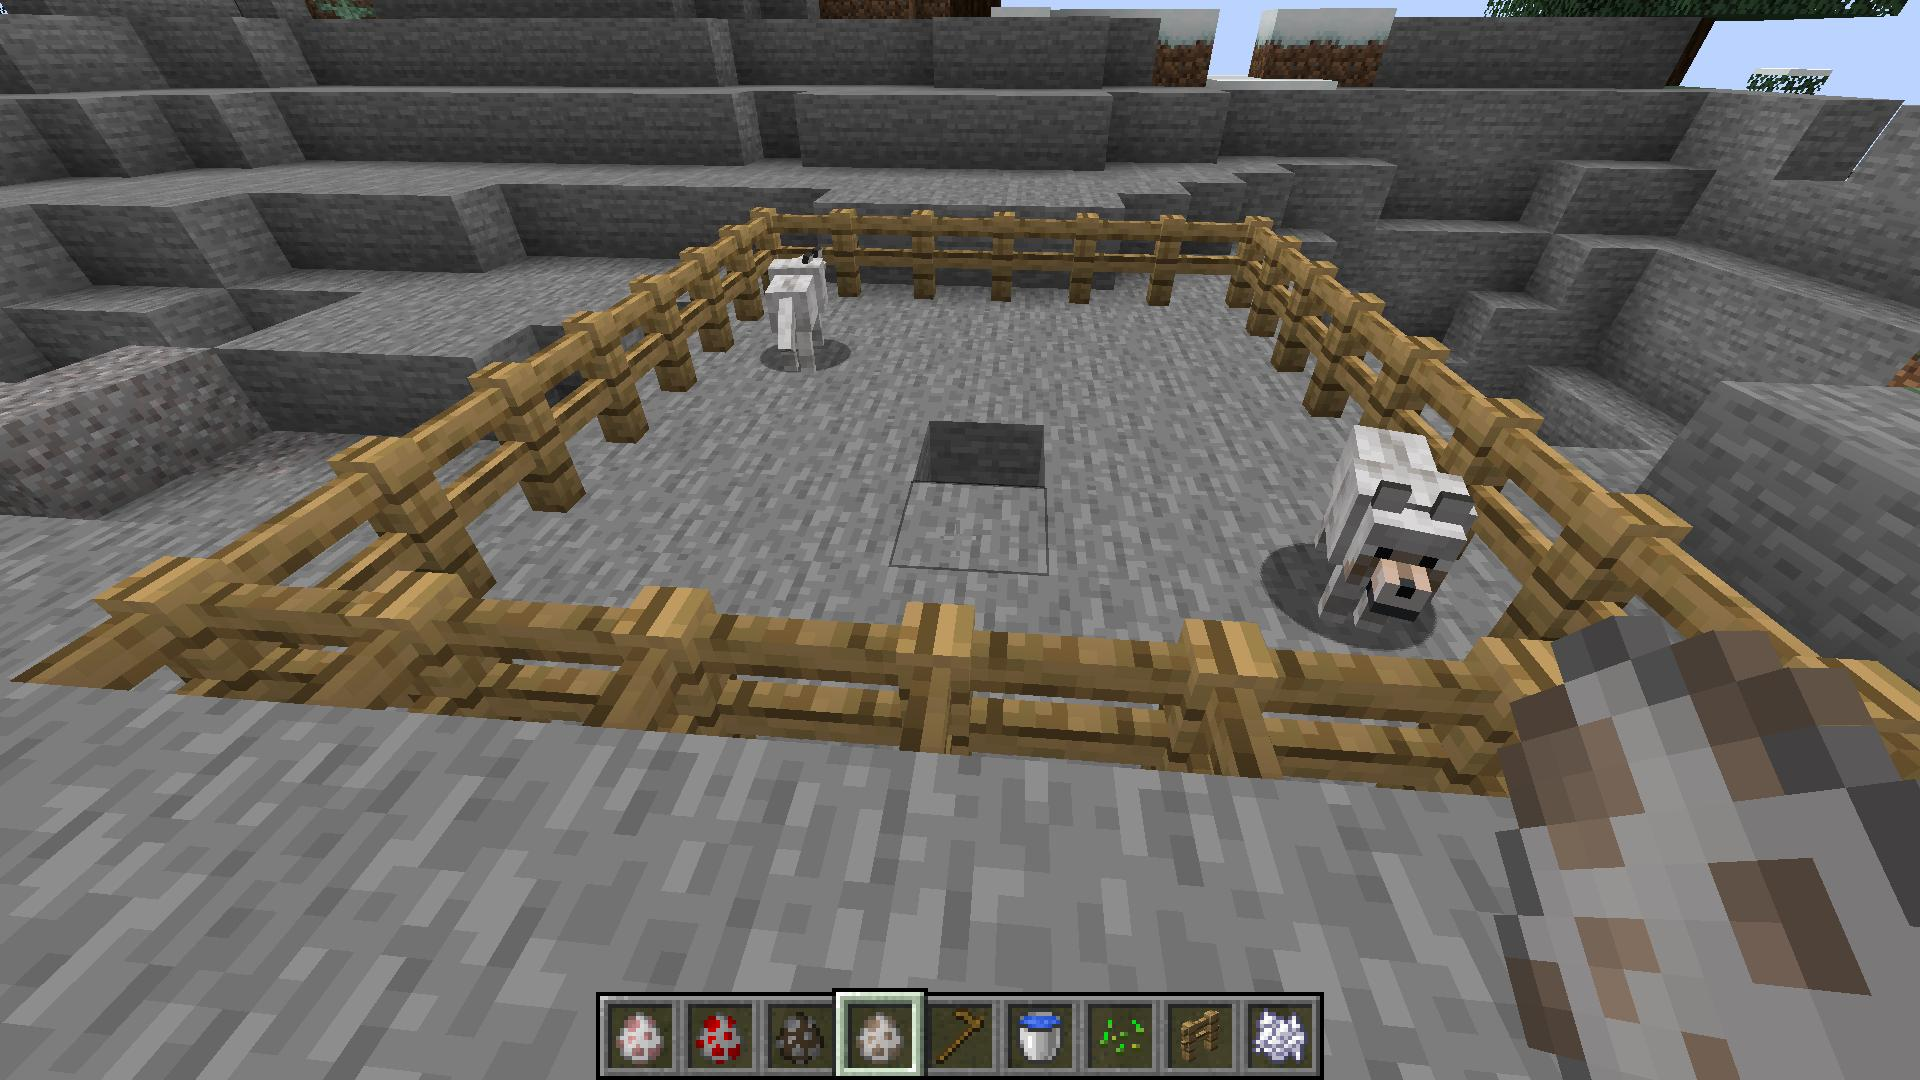wolf: (1308, 425, 1477, 640), (762, 247, 833, 378)
